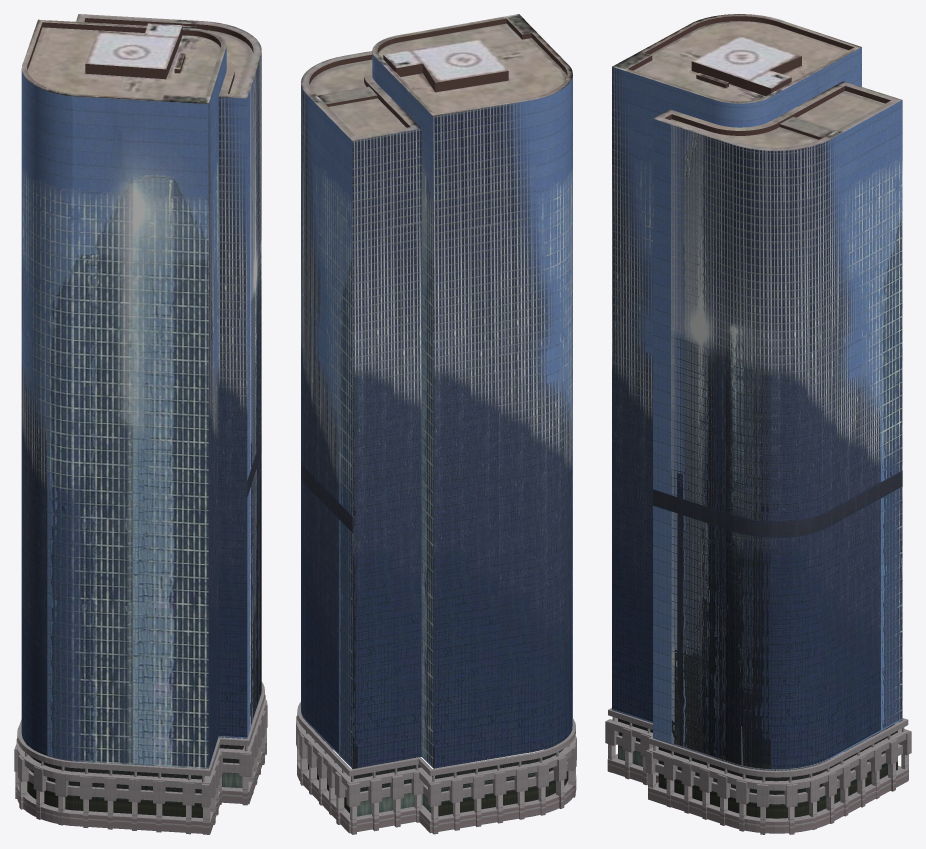
The model's file is warehouse_model.dae.
The picture shows the model from 3 angles, left to right: view 1: azimuth 30°, elevation 25°; view 2: azimuth 150°, elevation 25°; view 3: azimuth 270°, elevation 25°; orthographic projection. The views are drawn at different scales.
Visible parts, largest first — view 1: Group_1, Group2, final_column_1 (×6); view 2: Group_1, Group2, final_column_1 (×6); view 3: Group_1, Group2.
Part boxes in pixels (bbox=[...]): Group_1: bbox=[21, 14, 261, 768]; Group2: bbox=[17, 682, 265, 833]; final_column_1 (×6): bbox=[33, 746, 251, 834]; Group_1: bbox=[301, 14, 572, 768]; Group2: bbox=[297, 702, 576, 833]; final_column_1 (×6): bbox=[346, 761, 527, 834]; Group_1: bbox=[612, 14, 902, 770]; Group2: bbox=[607, 708, 908, 833].
Size of the model in its own units: 2501 by 2730 by 6979.
Materials: 18 (14 with a texture image).
